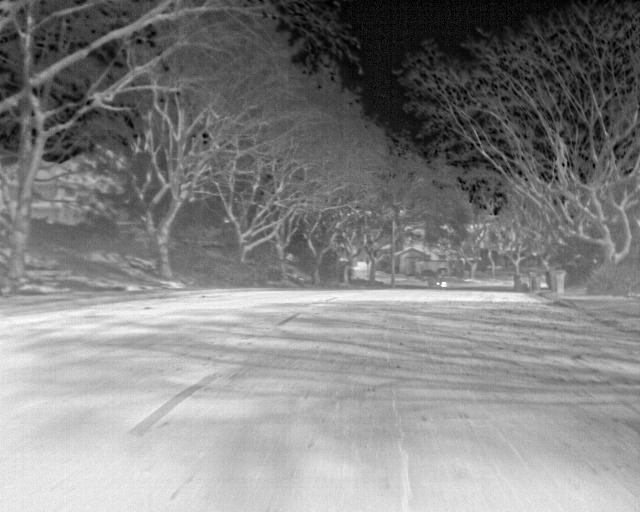bicycle: (429, 269, 445, 289)
